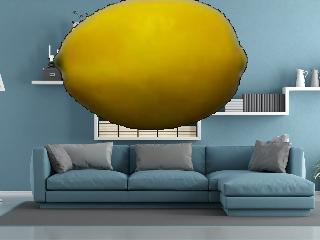lemon: (50, 0, 253, 134)
